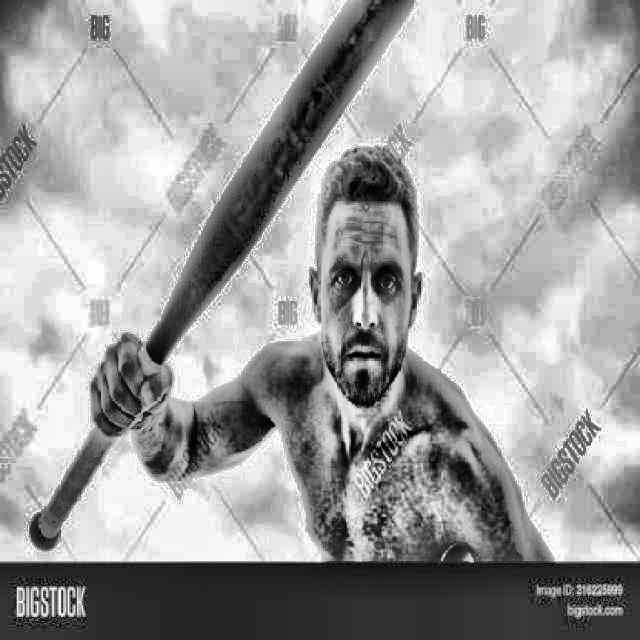tongkat pemukul: (8, 0, 422, 561)
